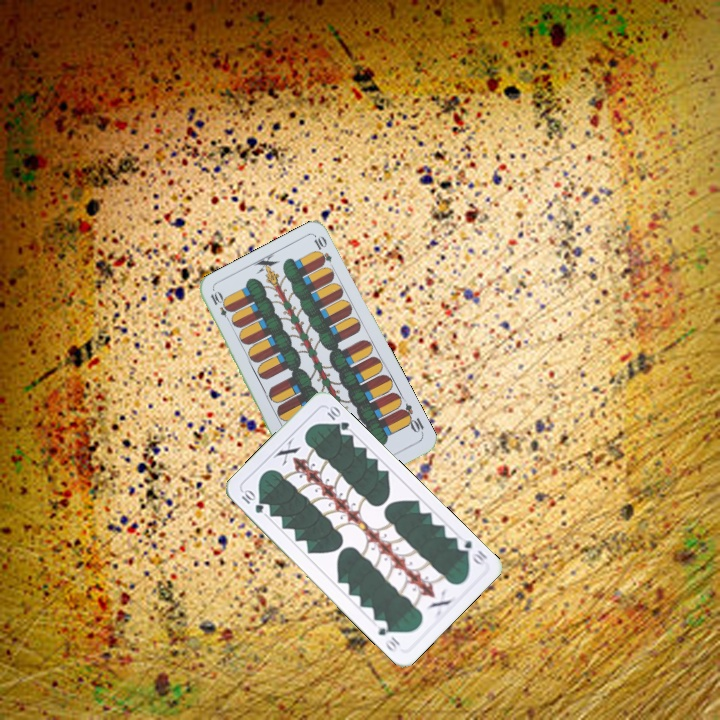E10: (206, 287, 235, 326), (396, 400, 426, 437)
G10: (452, 535, 490, 569), (237, 486, 266, 516)
